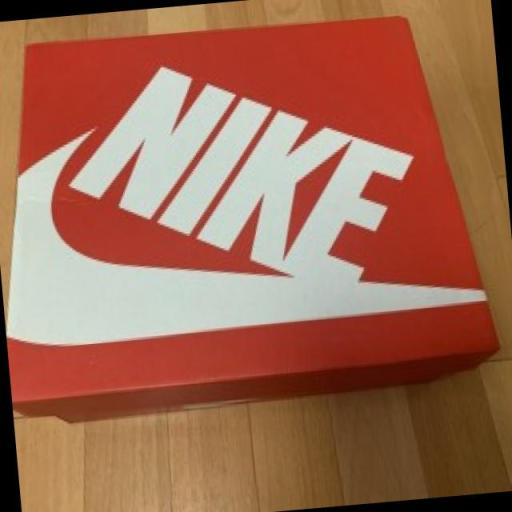Nike: (60, 37, 423, 316)
